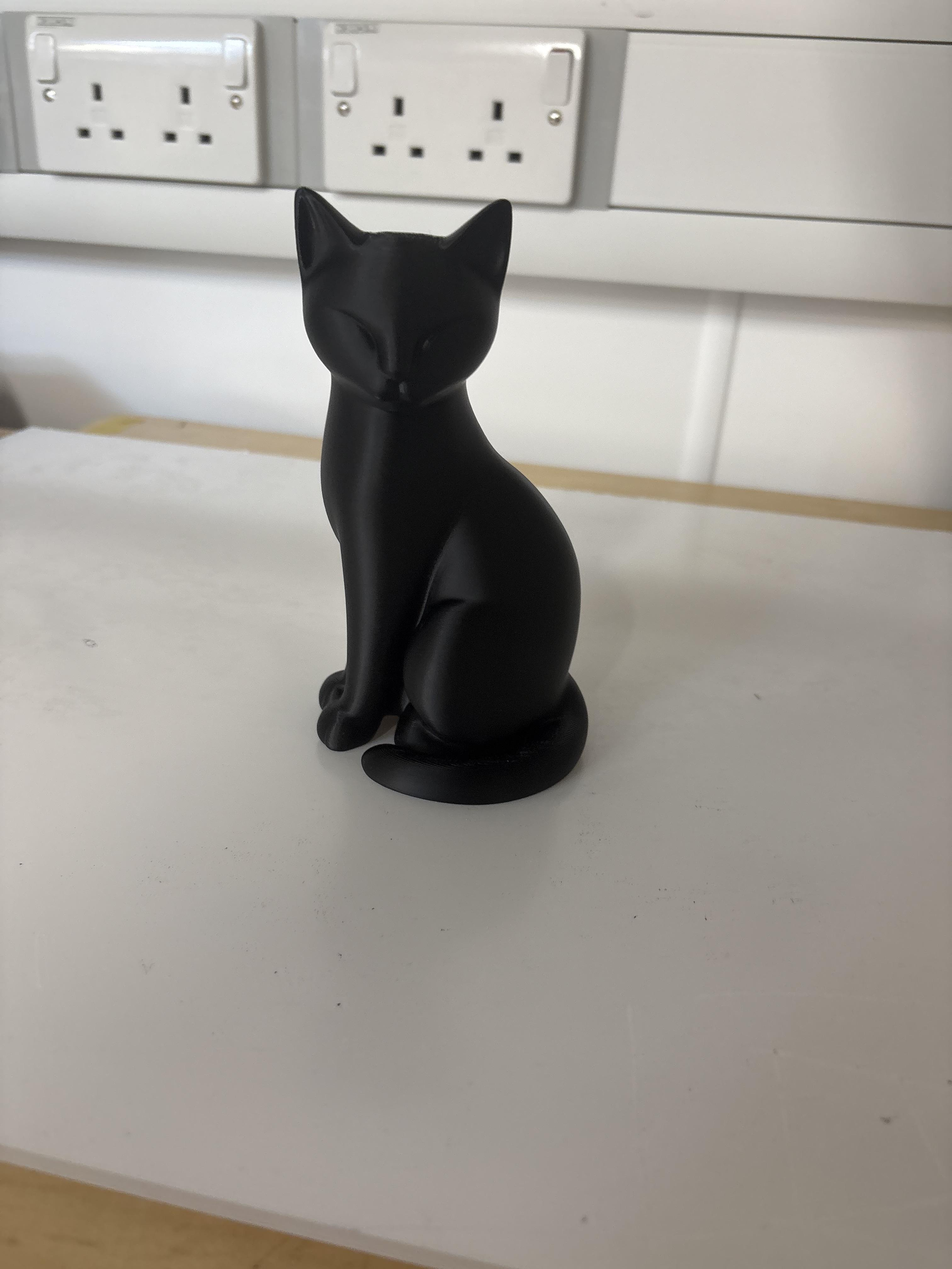cat: (296, 189, 587, 803)
